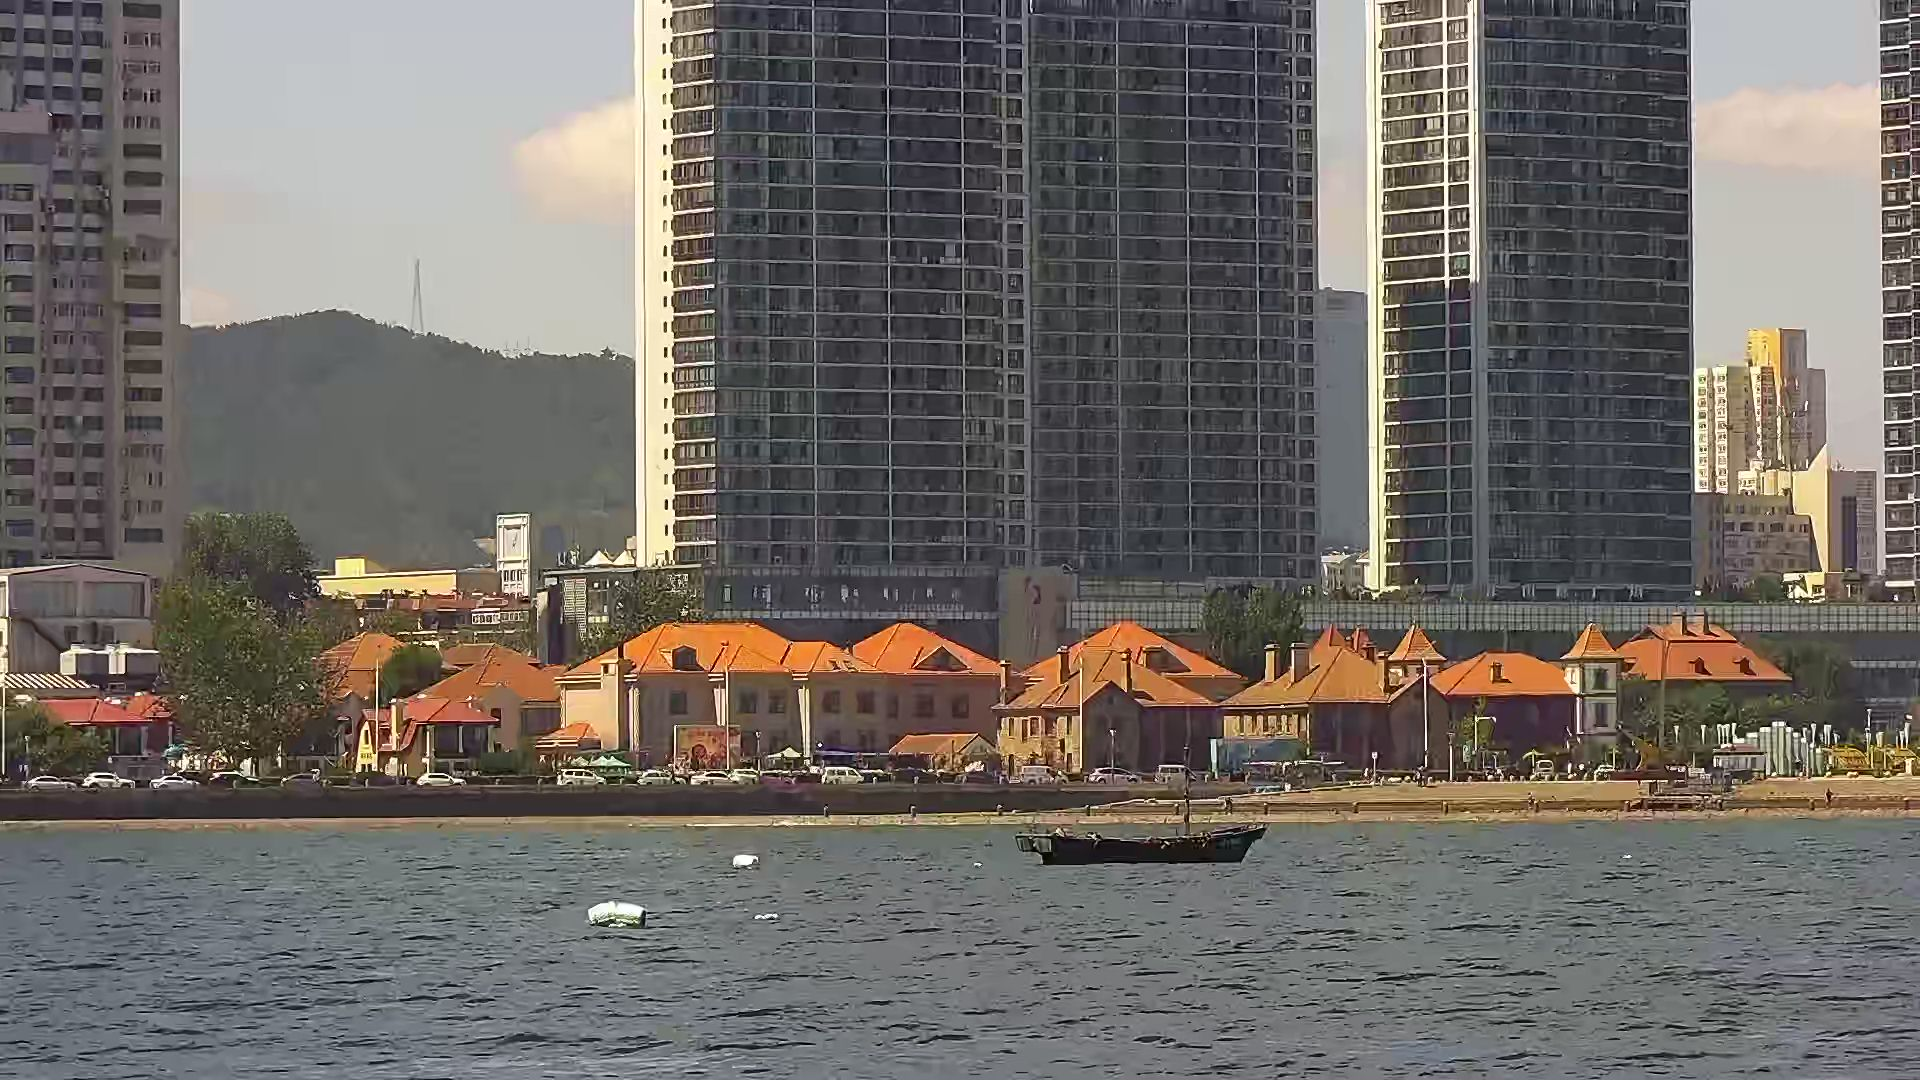boat: (1015, 831, 1267, 868)
rubbish: (582, 903, 651, 928), (752, 909, 782, 927), (733, 855, 760, 869)
